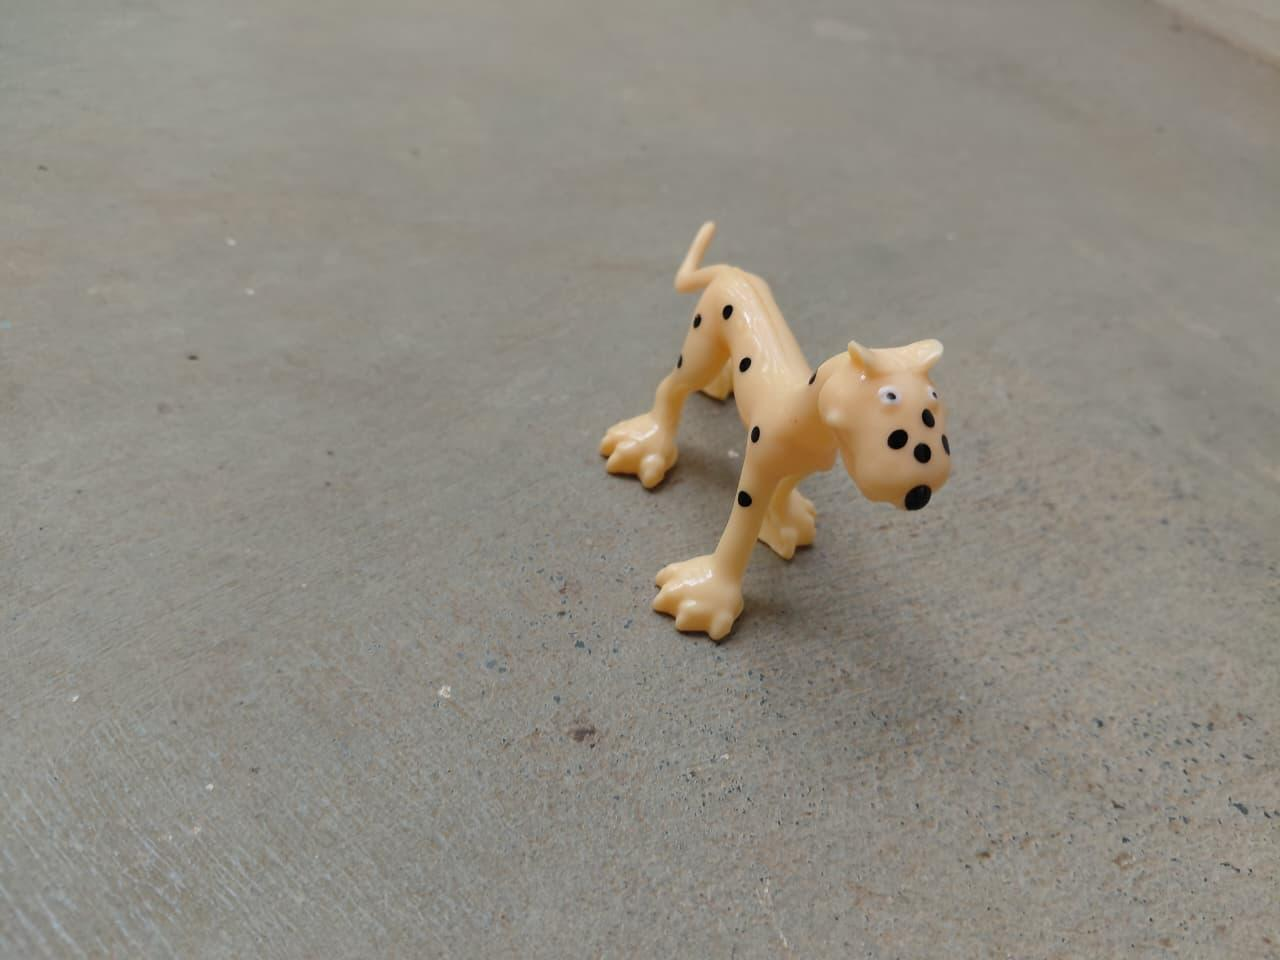cheetah: (584, 219, 959, 647)
